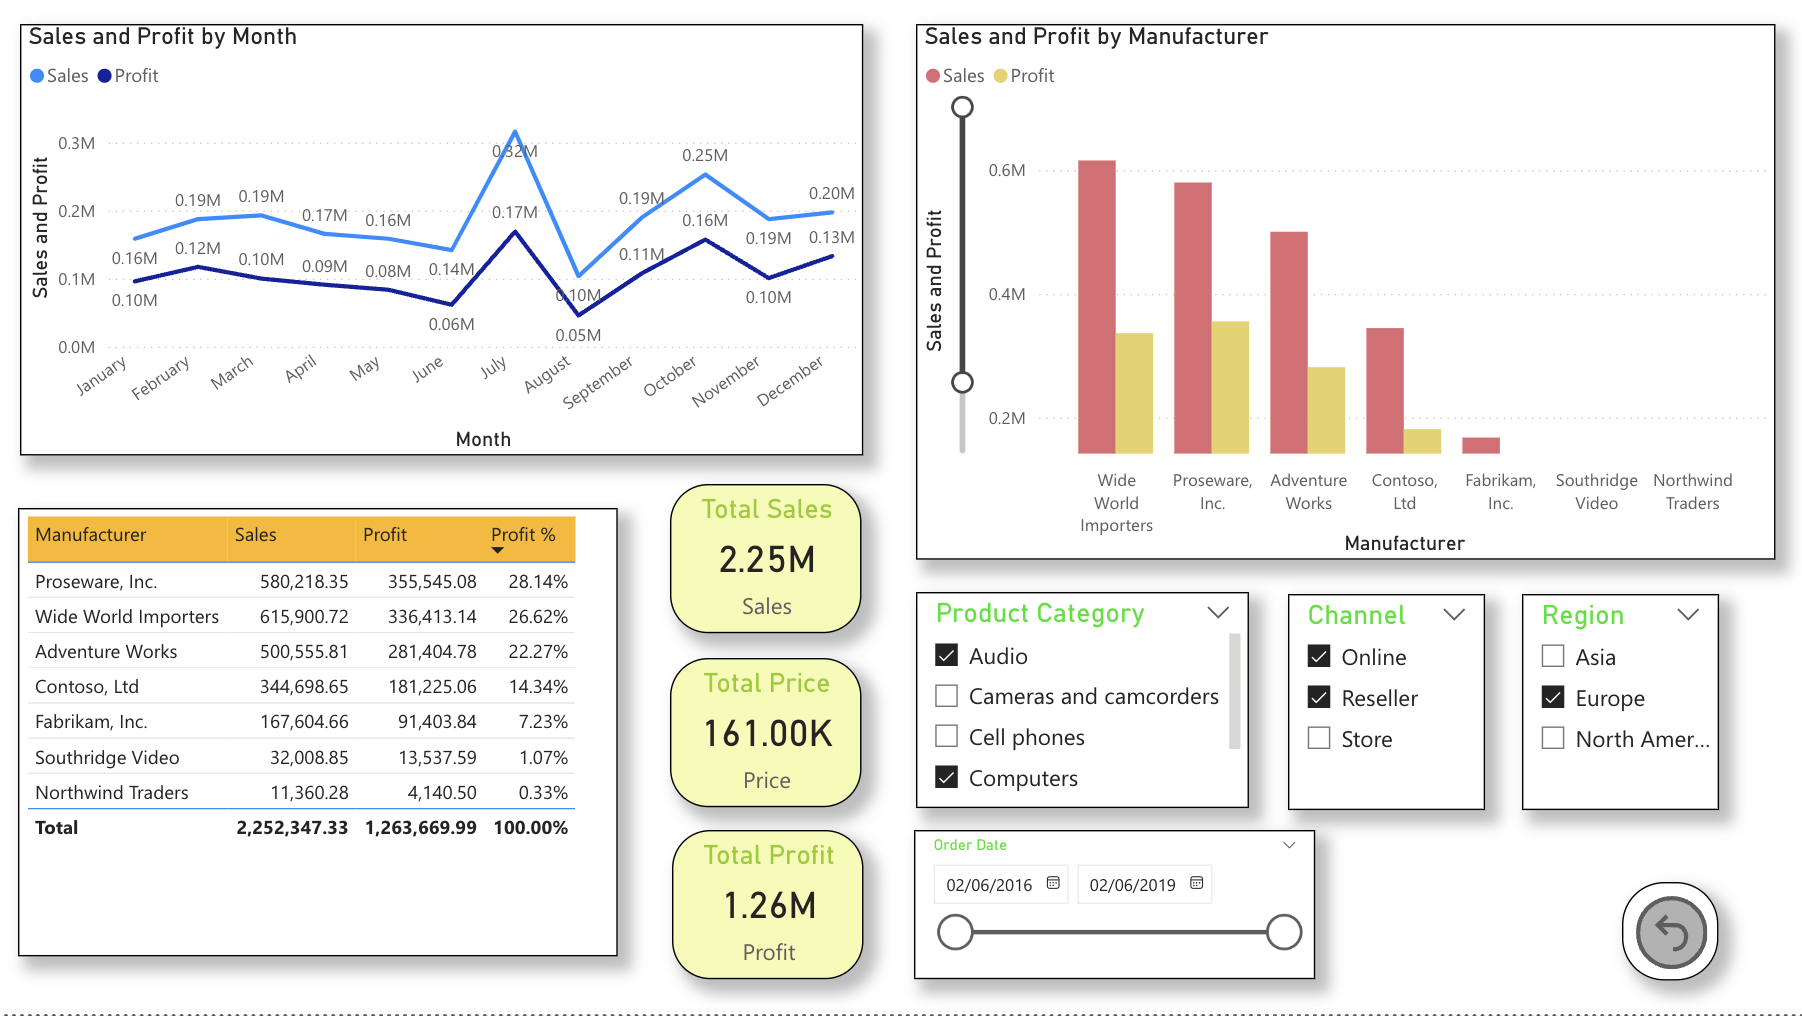

This screenshot's page, from the dashboard's own definition file:
{"tool":"powerbi","page":{"name":"Report","canvas":[1280,720],"ordinal":0},"visuals":[{"type":"tableEx","fields":{"Values":["Data1.Manufacturer","Sum(Data1.Sales)","Sum(Data1.Profit)","Divide(Sum(Data1.Profit), ScopedEval(Sum(Data1.Profit), []))"]},"box":[13.4,360.3,426.2,318.7],"z":0},{"type":"lineChart","fields":{"Y":["Sum(Data1.Sales)","Sum(Data1.Profit)"],"Category":["Data1.Order Date.Variation.Date Hierarchy.Year","Data1.Order Date.Variation.Date Hierarchy.Quarter","Data1.Order Date.Variation.Date Hierarchy.Month","Data1.Order Date.Variation.Date Hierarchy.Day"]},"box":[13.4,17.5,598.3,306.6],"z":1000},{"type":"clusteredColumnChart","fields":{"Category":["Data1.Manufacturer"],"Y":["Sum(Data1.Sales)","Sum(Data1.Profit)"]},"box":[650.8,17.5,610.4,380.5],"z":2000},{"type":"card","title":"Total Price","fields":{"Values":["Sum(Data1.Price)"]},"box":[476,467.9,135.8,106.2],"z":3000},{"type":"card","title":"Total Sales","fields":{"Values":["Sum(Data1.Sales)"]},"box":[476,344.2,135.8,106.2],"z":4000},{"type":"card","title":"Total Profit","fields":{"Values":["Sum(Data1.Profit)"]},"box":[477.3,590.3,135.8,106.2],"z":5000},{"type":"slicer","fields":{"Values":["Data1.Channel"]},"box":[915.6,420.8,139.8,122.4],"z":6000},{"type":"slicer","fields":{"Values":["Data1.Region"]},"box":[1081,420.8,139.8,95.5],"z":7000},{"type":"slicer","fields":{"Values":["Data1.Product Category"]},"box":[650.8,420.8,236.6,153.3],"z":8000},{"type":"slicer","fields":{"Values":["Data1.Order Date"]},"box":[649.4,590.3,285,106.2],"z":9000},{"type":"actionButton","box":[1151.8,626.8,68.7,69.9],"z":10000}]}

Visuals, with their boxes in screenshot pixels (x1, y1, x2, y2), scaled from the page's 1280x720 canvas onto the 1802x1016 screenshot:
tableEx - Data1.Manufacturer x Sum(Data1.Sales): (x1=19, y1=508, x2=619, y2=958)
lineChart - Sum(Data1.Sales) x Sum(Data1.Profit): (x1=19, y1=25, x2=861, y2=457)
clusteredColumnChart - Data1.Manufacturer x Sum(Data1.Sales): (x1=916, y1=25, x2=1776, y2=562)
"Total Price" card: (x1=670, y1=660, x2=861, y2=810)
"Total Sales" card: (x1=670, y1=486, x2=861, y2=636)
"Total Profit" card: (x1=672, y1=833, x2=863, y2=983)
slicer - Data1.Channel: (x1=1289, y1=594, x2=1486, y2=767)
slicer - Data1.Region: (x1=1522, y1=594, x2=1719, y2=729)
slicer - Data1.Product Category: (x1=916, y1=594, x2=1249, y2=810)
slicer - Data1.Order Date: (x1=914, y1=833, x2=1315, y2=983)
actionButton: (x1=1622, y1=884, x2=1718, y2=983)
